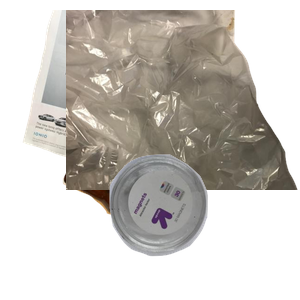glass: (60, 166, 241, 300)
paper: (20, 10, 244, 190)
plastic: (107, 152, 300, 300)
trash: (66, 10, 300, 190)
